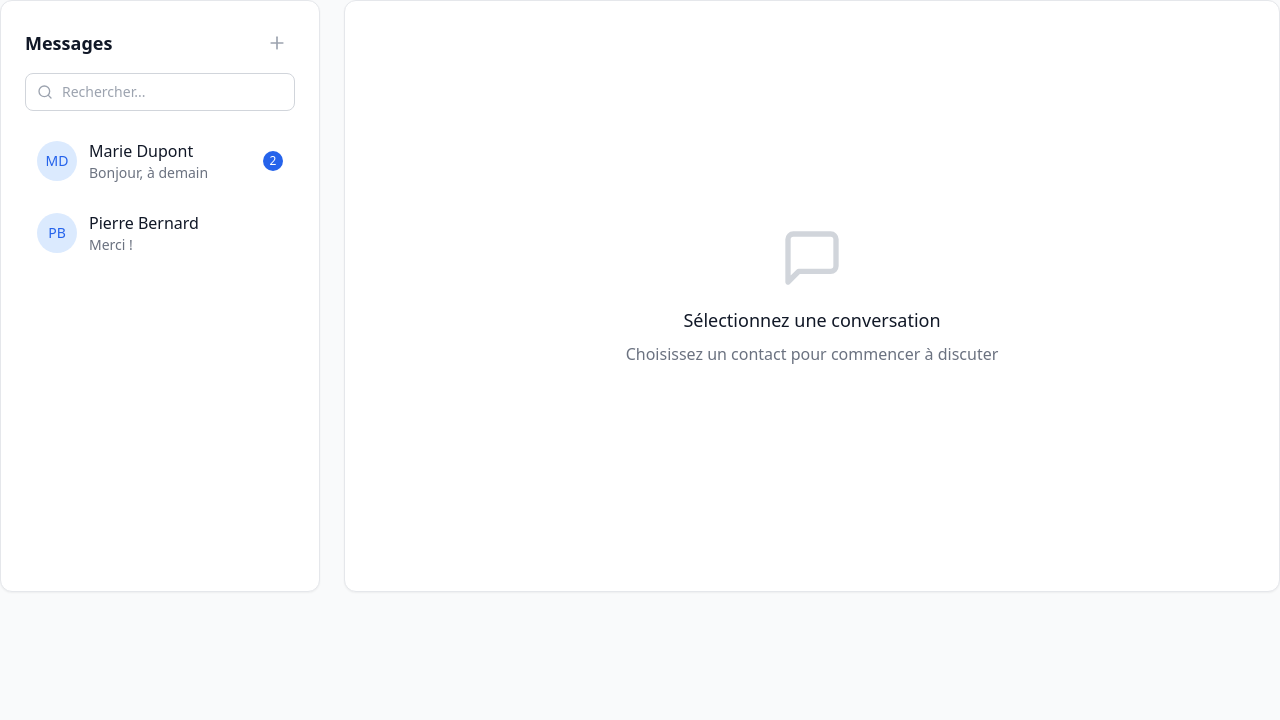
Test case: Messages page › opens the contact picker with the + button
Expected: the text "Marie Dupont" is shown, [89,140,193,162]
Click the button named "Nouvelle conversation".
click(277, 43)  # box [259,25,295,61]
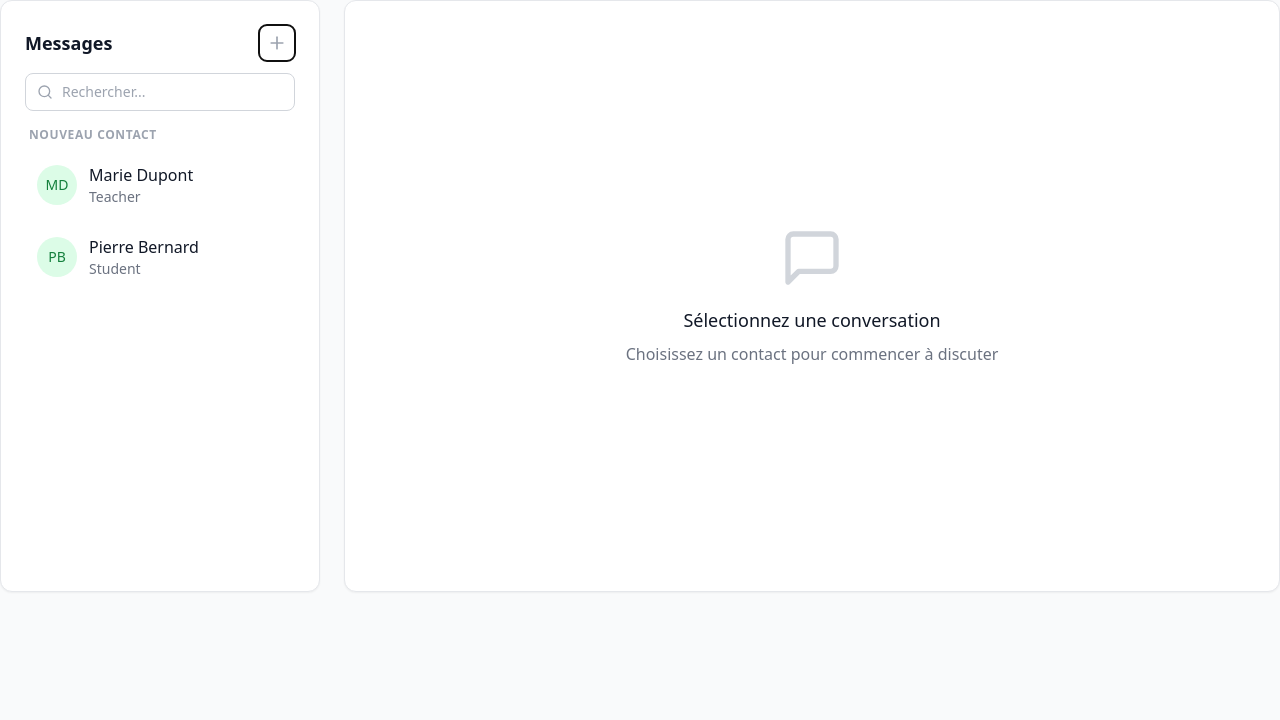
Expected: the text "Nouveau contact" is shown, [29,127,157,143]
